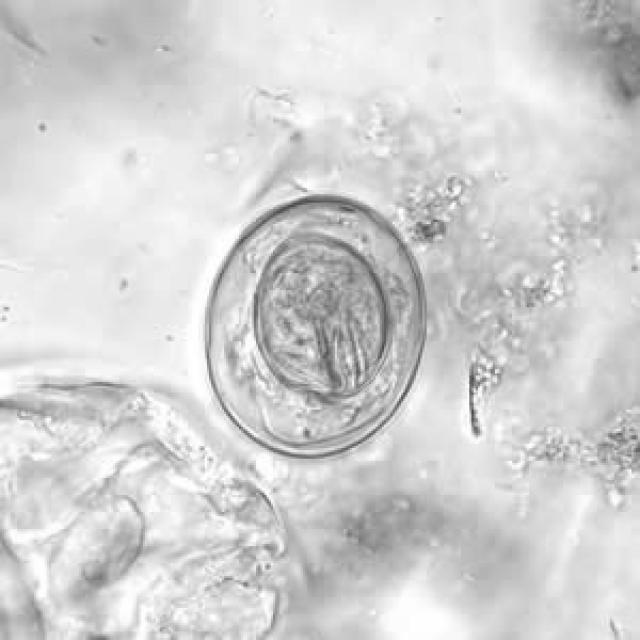Hymenolepis: (200, 185, 436, 460)
